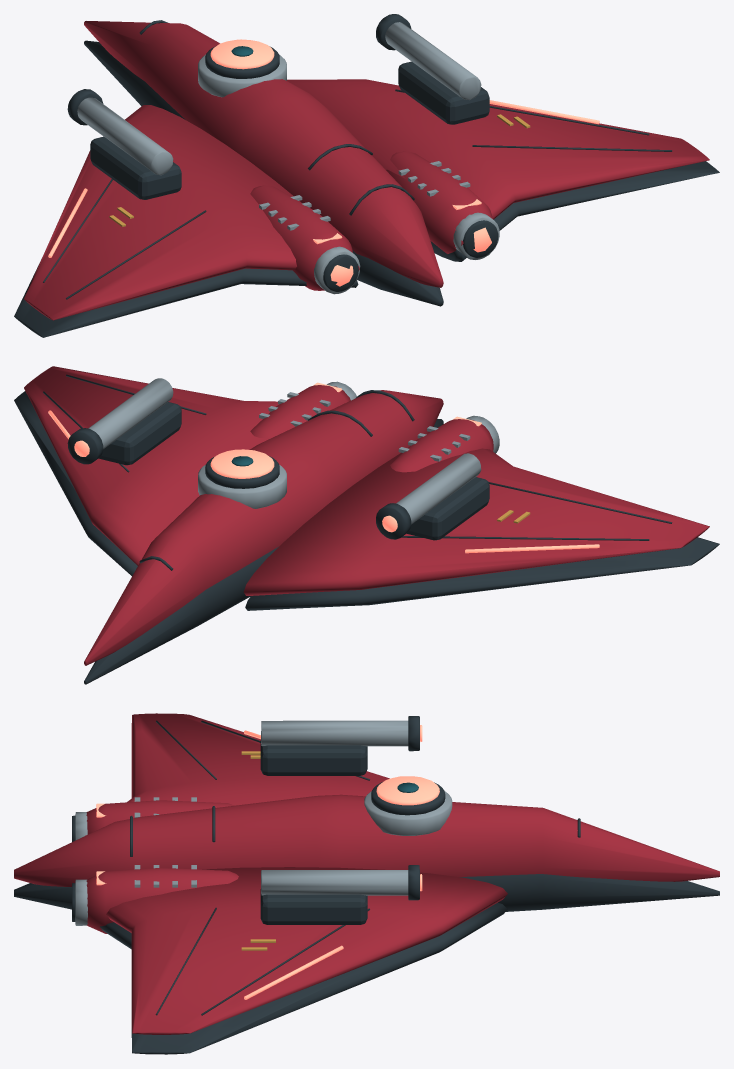
The model's file is enemy-0.glb.
3 renders of one model, top to bottom at view 1: azimuth 30°, elevation 25°; view 2: azimuth 150°, elevation 25°; view 3: azimuth 270°, elevation 25°, orthographic.
Visible parts, largest first — view 1: SM_Hull; view 2: SM_Hull; view 3: SM_Hull.
Boxes of the visible parts, <box> form: SM_Hull: <box>14,14,719,337</box>; SM_Hull: <box>14,366,719,684</box>; SM_Hull: <box>14,713,719,1054</box>.
Bounding box in the file's own units: 6.59 × 1.2 × 6.
